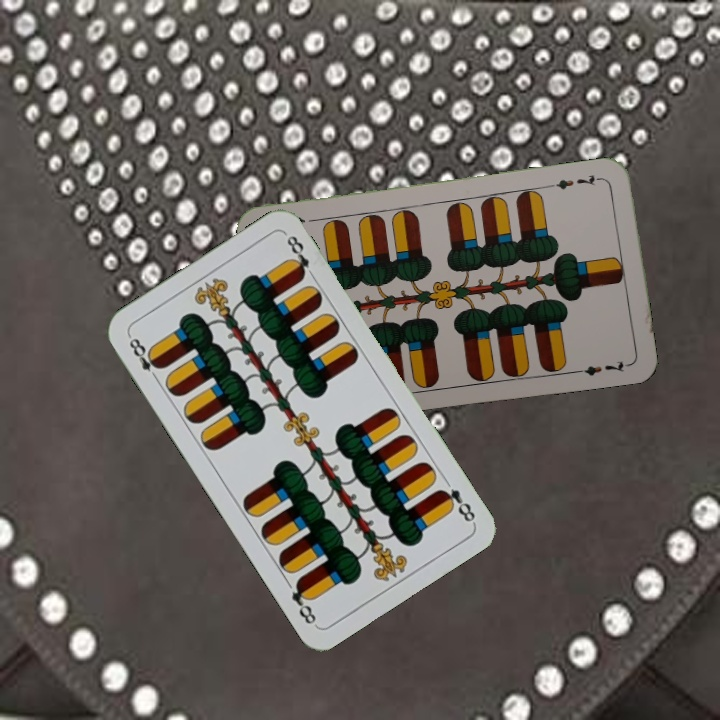E7: (548, 170, 607, 192)
E8: (124, 331, 165, 385), (434, 484, 478, 525)
